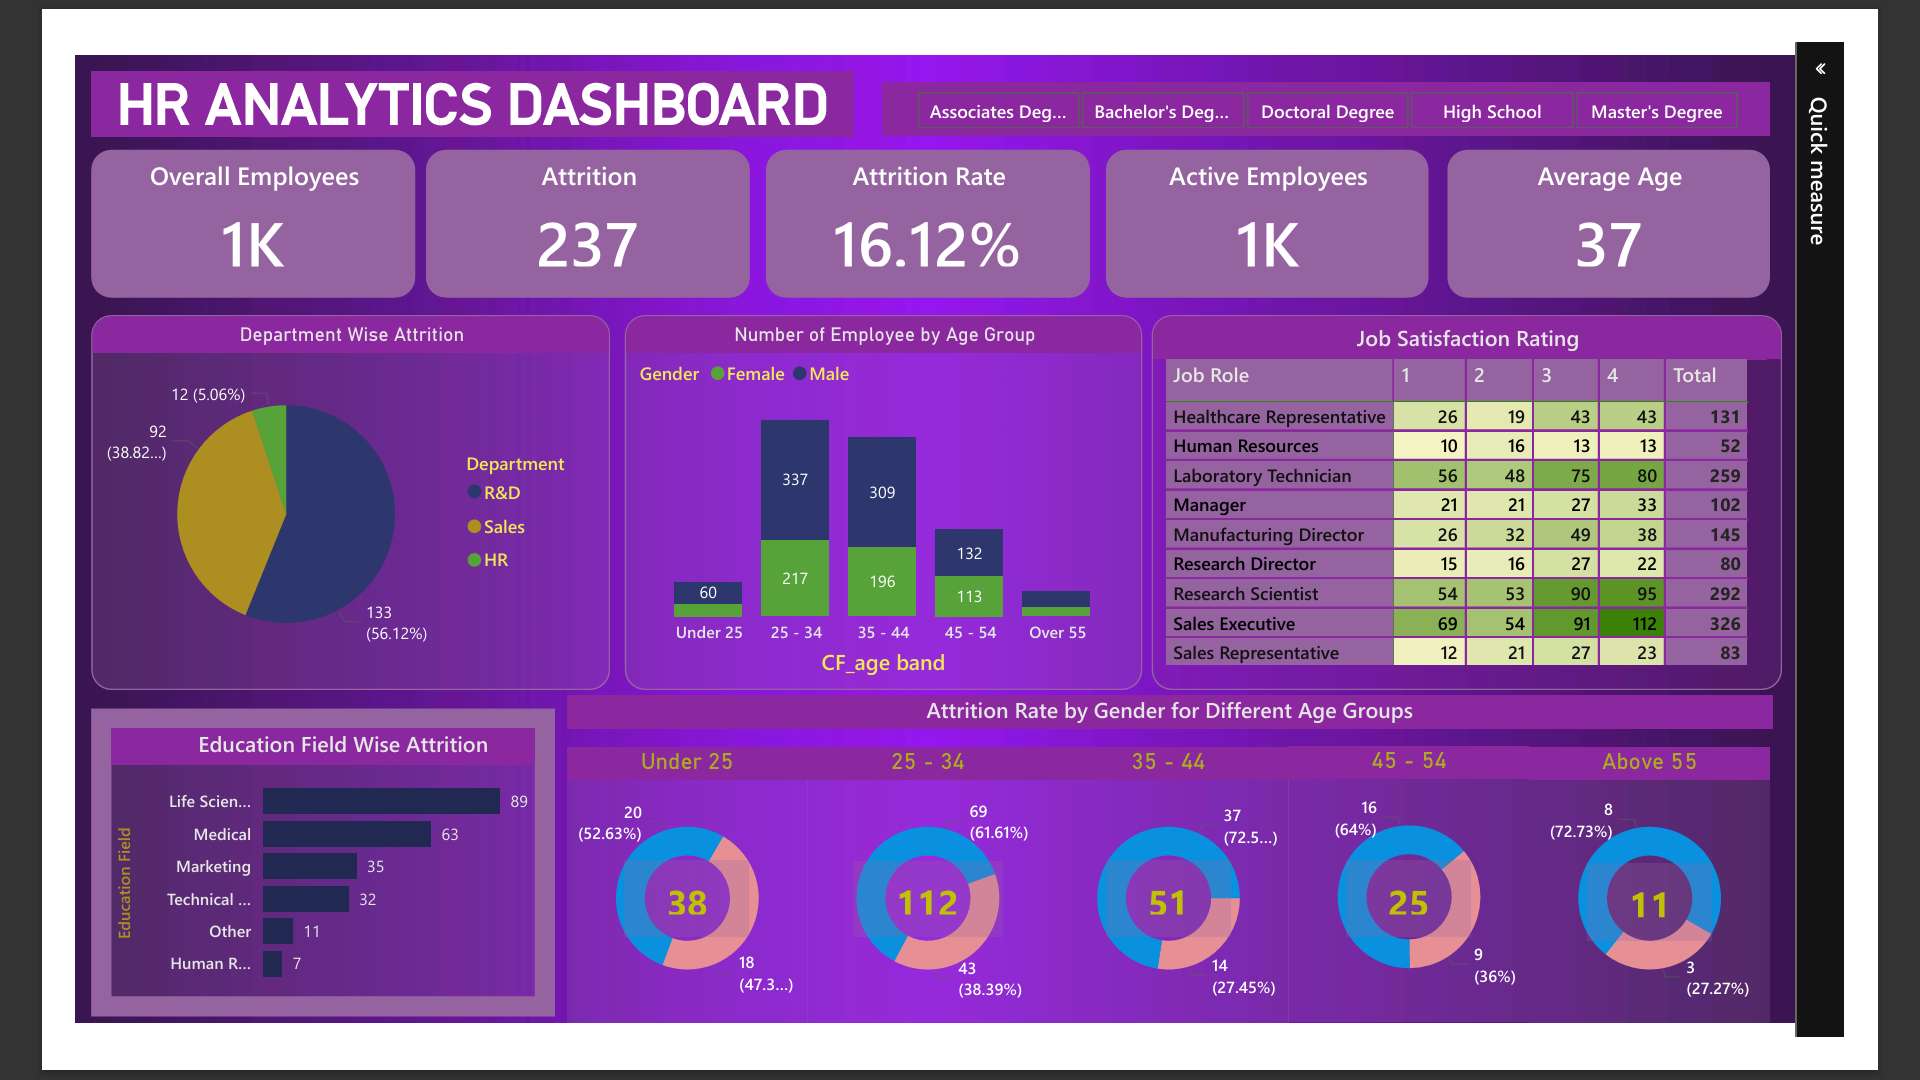

The page's visual inventory and layout, read from the dashboard file:
{"tool":"powerbi","page":{"name":"Page 1","canvas":[1280,720],"ordinal":0},"visuals":[{"type":"cardVisual","title":"Overall Employees","fields":{"Data":["Sum(HR data.Employee Count)"]},"box":[12.3,69.9,240.5,110.4],"z":0},{"type":"cardVisual","title":"Attrition","fields":{"Data":["Sum(HR data.Attrition Count)"]},"box":[261.4,69.9,240.5,110.4],"z":1000},{"type":"cardVisual","title":"Attrition Rate","fields":{"Data":["HR data.Attrition Rate"]},"box":[514.1,69.9,240.5,110.4],"z":2000},{"type":"cardVisual","title":"Active Employees","fields":{"Data":["HR data.Active Employees"]},"box":[766.9,69.9,240.5,110.4],"z":3000},{"type":"cardVisual","title":"Average Age","fields":{"Data":["Avg(HR data.Age)"]},"box":[1020.9,69.9,240.5,110.4],"z":4000},{"type":"pieChart","title":"Department Wise Attrition","fields":{"Category":["HR data.Department"],"Y":["Sum(HR data.Attrition Count)"]},"box":[12.3,192.6,385.3,279.8],"z":5000},{"type":"columnChart","title":"Number of Employee by Age Group","fields":{"Category":["HR data.CF_age band"],"Y":["Sum(HR data.Employee Count)"],"Series":["HR data.Gender"]},"box":[408.6,192.6,385.3,279.8],"z":6000},{"type":"pivotTable","title":"Job Satisfaction Rating","fields":{"Rows":["HR data.Job Role"],"Columns":["HR data.Job Satisfaction"],"Values":["Sum(HR data.Employee Count)"]},"box":[801.2,192.6,468.7,279.8],"z":7000},{"type":"barChart","title":"Education Field Wise Attrition","fields":{"Category":["HR data.Education Field"],"Y":["Sum(HR data.Attrition Count)"]},"box":[12.3,485.9,344.8,229.4],"z":8000},{"type":"donutChart","title":"Under 25","fields":{"Category":["HR data.Gender"],"Y":["Sum(HR data.Attrition Count)"],"Series":["HR data.CF_age band"]},"box":[365.6,515.3,179.1,204.9],"z":9000},{"type":"textbox","title":"Attrition Rate by Gender for Different Age Groups ","box":[365.6,476.1,896.9,24.5],"z":10000},{"type":"donutChart","title":"25 - 34","fields":{"Category":["HR data.Gender"],"Y":["Sum(HR data.Attrition Count)"],"Series":["HR data.CF_age band"]},"box":[544.8,515.3,179.1,204.9],"z":11000},{"type":"donutChart","title":"35 - 44","fields":{"Category":["HR data.Gender"],"Y":["Sum(HR data.Attrition Count)"],"Series":["HR data.CF_age band"]},"box":[723.9,515.3,179.1,204.9],"z":12000},{"type":"donutChart","title":"45 - 54","fields":{"Category":["HR data.Gender"],"Y":["Sum(HR data.Attrition Count)"],"Series":["HR data.CF_age band"]},"box":[903.1,514.1,179.1,204.9],"z":13000},{"type":"donutChart","title":"Above 55","fields":{"Category":["HR data.Gender"],"Y":["Sum(HR data.Attrition Count)"],"Series":["HR data.CF_age band"]},"box":[1082.2,515.3,179.1,204.9],"z":14000},{"type":"cardVisual","fields":{"Data":["Sum(HR data.Attrition Count)"]},"box":[408.6,598.8,93.3,57.7],"z":14001},{"type":"cardVisual","fields":{"Data":["Sum(HR data.Attrition Count)"]},"box":[579.1,600,110.4,56.4],"z":14002},{"type":"cardVisual","fields":{"Data":["Sum(HR data.Attrition Count)"]},"box":[766.9,598.8,93.3,57.7],"z":14003},{"type":"cardVisual","fields":{"Data":["Sum(HR data.Attrition Count)"]},"box":[946,598.8,93.3,57.7],"z":14004},{"type":"cardVisual","fields":{"Data":["Sum(HR data.Attrition Count)"]},"box":[1125.2,601.2,93.3,57.7],"z":14005},{"type":"textbox","title":"HR ANALYTICS DASHBOARD","box":[12.3,12.3,566.9,47.9],"z":14006},{"type":"slicer","fields":{"Values":["HR data.Education"]},"box":[601.2,19.6,660.1,40.5],"z":14007}]}

Visuals, with their boxes on the page's 1280x720 design canvas (x1, y1, x2, y2). These are canvas units, not pixel positions in the 1920x1080 screenshot, which may show the page scaled, cropped or inside an application window:
"Overall Employees" cardVisual: rect(12, 70, 253, 180)
"Attrition" cardVisual: rect(261, 70, 502, 180)
"Attrition Rate" cardVisual: rect(514, 70, 755, 180)
"Active Employees" cardVisual: rect(767, 70, 1007, 180)
"Average Age" cardVisual: rect(1021, 70, 1261, 180)
"Department Wise Attrition" pieChart: rect(12, 193, 398, 472)
"Number of Employee by Age Group" columnChart: rect(409, 193, 794, 472)
"Job Satisfaction Rating" pivotTable: rect(801, 193, 1270, 472)
"Education Field Wise Attrition" barChart: rect(12, 486, 357, 715)
"Under 25" donutChart: rect(366, 515, 545, 720)
"Attrition Rate by Gender for Different Age Groups " textbox: rect(366, 476, 1262, 501)
"25 - 34" donutChart: rect(545, 515, 724, 720)
"35 - 44" donutChart: rect(724, 515, 903, 720)
"45 - 54" donutChart: rect(903, 514, 1082, 719)
"Above 55" donutChart: rect(1082, 515, 1261, 720)
cardVisual - Sum(HR data.Attrition Count): rect(409, 599, 502, 656)
cardVisual - Sum(HR data.Attrition Count): rect(579, 600, 690, 656)
cardVisual - Sum(HR data.Attrition Count): rect(767, 599, 860, 656)
cardVisual - Sum(HR data.Attrition Count): rect(946, 599, 1039, 656)
cardVisual - Sum(HR data.Attrition Count): rect(1125, 601, 1218, 659)
"HR ANALYTICS DASHBOARD" textbox: rect(12, 12, 579, 60)
slicer - HR data.Education: rect(601, 20, 1261, 60)
